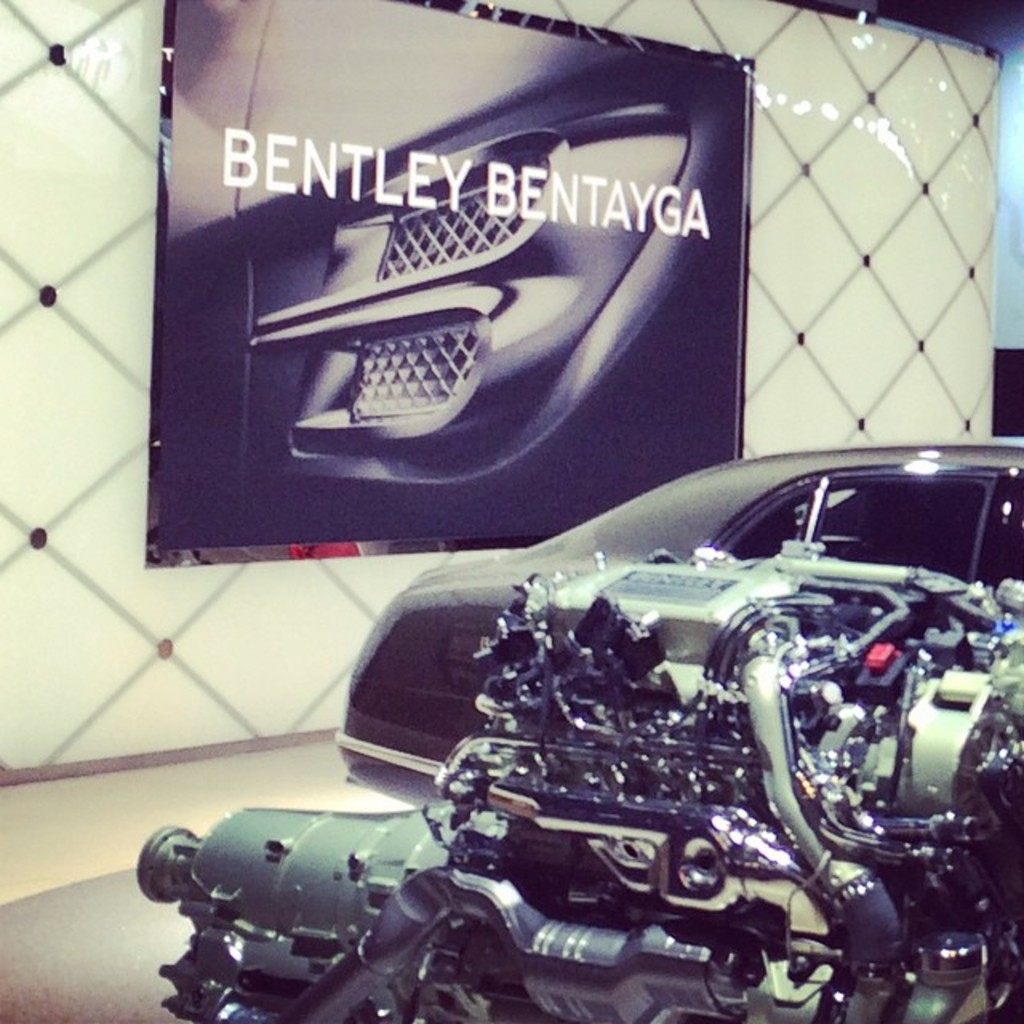Car: (332, 441, 1022, 807)
